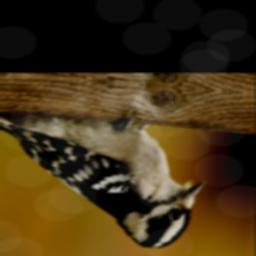Woodpecker: (0, 100, 210, 254)
